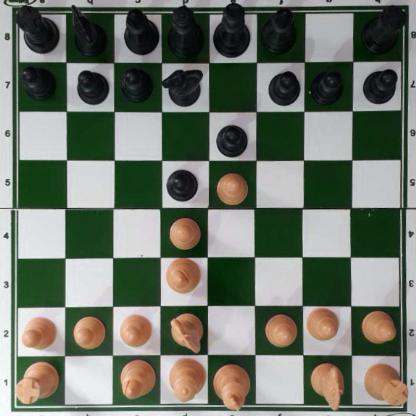black-bishop: (260, 5, 297, 55), (123, 7, 159, 54)
black-king: (215, 0, 251, 60)
black-knight: (71, 3, 107, 56), (164, 66, 201, 105)
black-pawn: (362, 67, 397, 104), (21, 65, 56, 100), (216, 122, 249, 157), (76, 68, 108, 104), (311, 68, 343, 103), (121, 67, 152, 102), (166, 168, 198, 201), (268, 71, 299, 105)
black-queen: (167, 5, 205, 56)
black-rook: (15, 4, 61, 51), (360, 6, 404, 52)
white-bishop: (120, 358, 154, 399), (165, 256, 200, 293)
white-king: (215, 361, 249, 411)
white-knight: (310, 360, 344, 411), (170, 311, 204, 353)
white-pawn: (19, 315, 58, 349), (118, 312, 152, 348), (361, 310, 397, 343), (263, 313, 297, 347), (307, 306, 339, 341), (72, 314, 105, 347), (168, 215, 201, 248), (215, 171, 249, 203)
white-queen: (169, 355, 204, 405)
white-rook: (363, 362, 409, 406), (15, 360, 60, 403)
